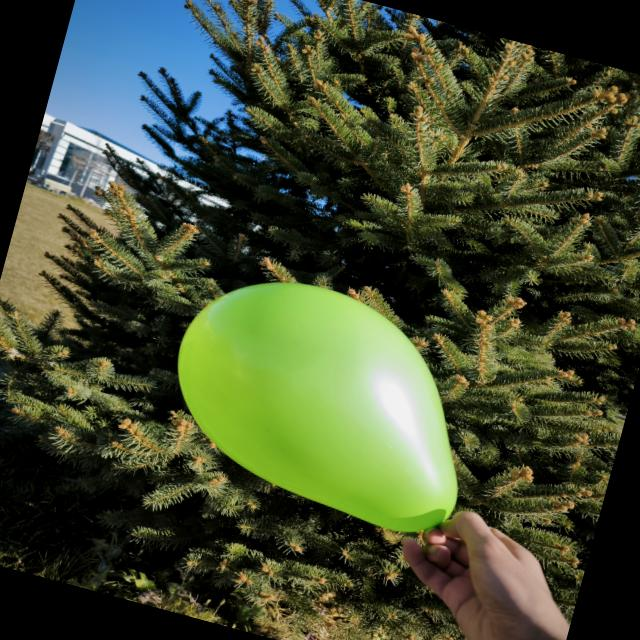balloon: (178, 282, 457, 531)
